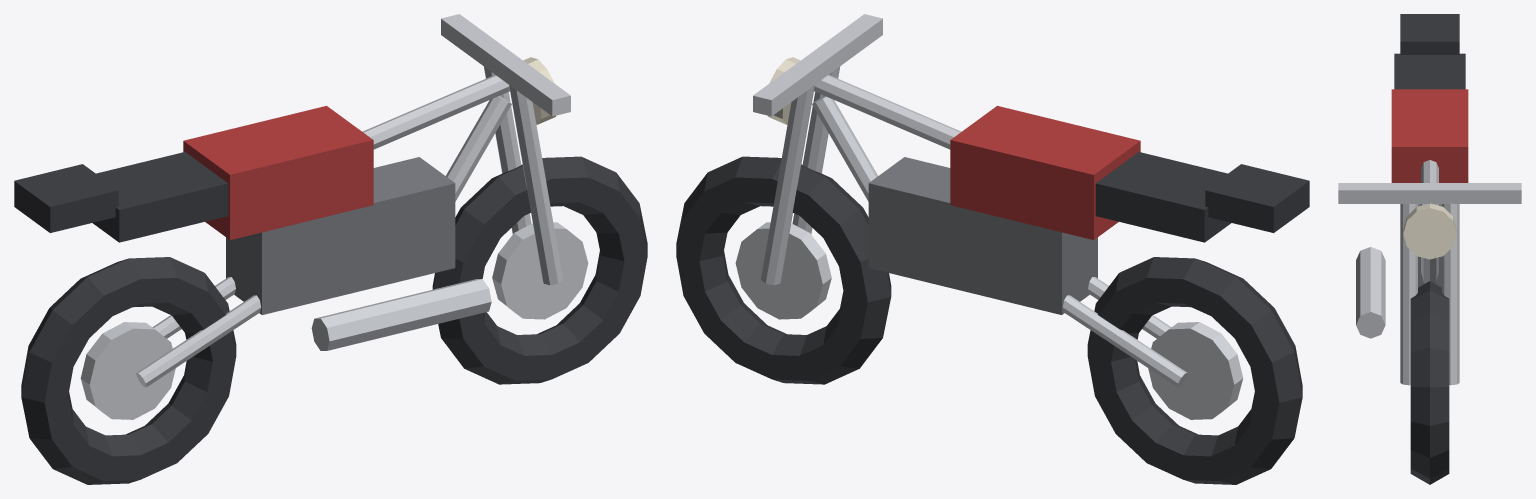
The model's file is motorcycle.glb.
The picture shows the model from 3 angles, left to right: view 1: azimuth 30°, elevation 25°; view 2: azimuth 150°, elevation 25°; view 3: azimuth 270°, elevation 25°; orthographic projection. The views are drawn at different scales.
Parts seen in each view (by area): view 1: motorcycle; view 2: motorcycle; view 3: motorcycle.
Part boxes in pixels (<box>): motorcycle: <box>14,14,647,484</box>; motorcycle: <box>676,14,1309,484</box>; motorcycle: <box>1338,14,1521,484</box>.
Size of the model in its own units: 2.01 by 1.03 by 0.62.
